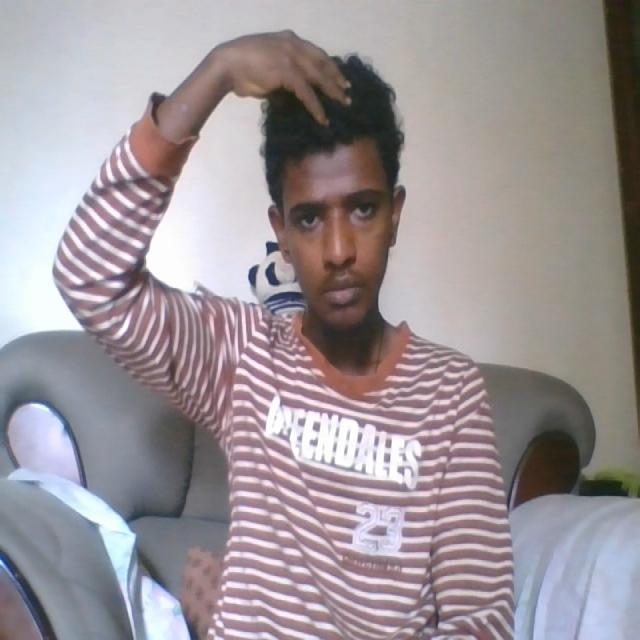mengist: (234, 27, 396, 137)
